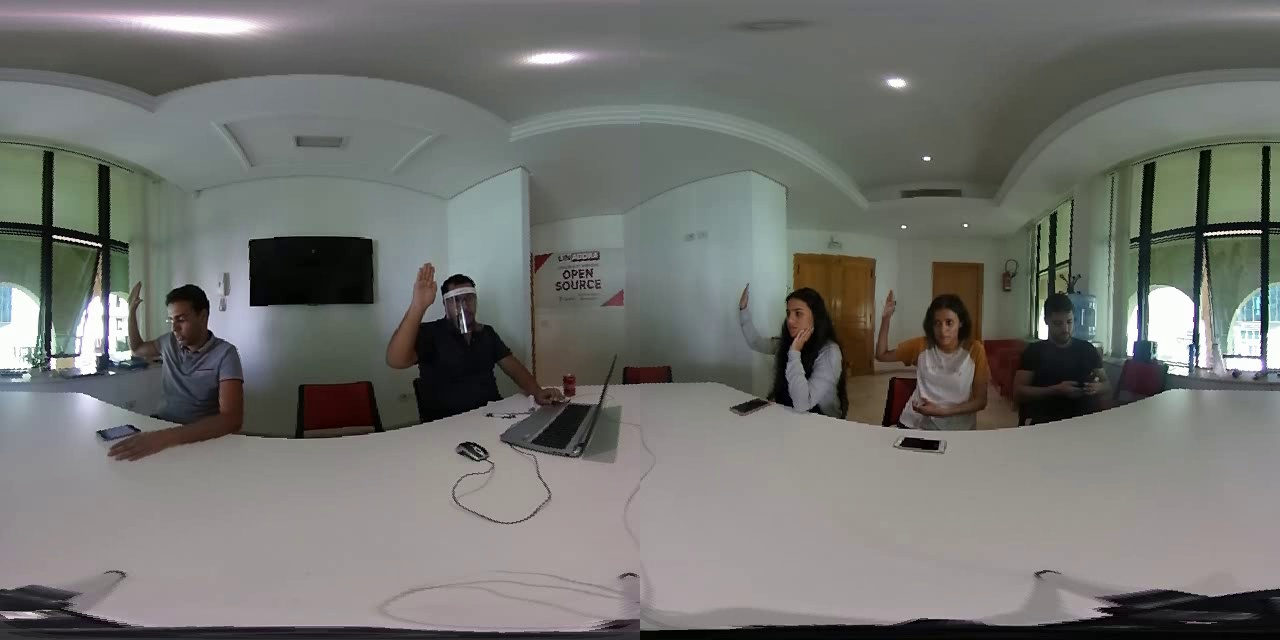person: (378, 258, 557, 425), (113, 273, 259, 451), (867, 276, 1000, 432), (728, 274, 851, 412), (1007, 289, 1126, 423)
voting: (378, 261, 440, 367), (722, 265, 773, 362), (861, 281, 908, 371), (115, 280, 162, 369)
